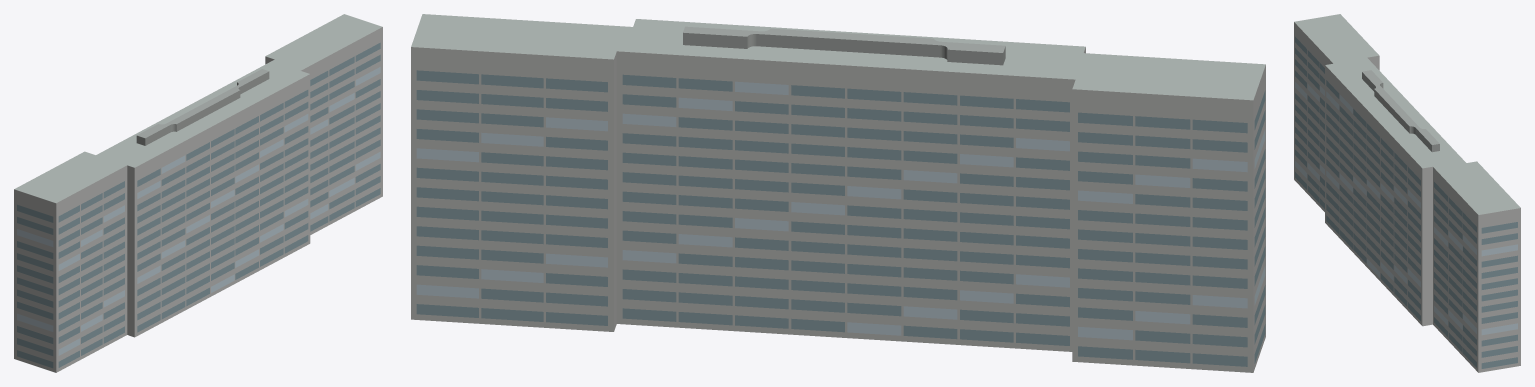
The model's file is fallback-daechi-eunma-2.glb.
3 renders of one model, left to right at view 1: azimuth 30°, elevation 25°; view 2: azimuth 150°, elevation 25°; view 3: azimuth 270°, elevation 25°, orthographic. The views are drawn at different scales.
Parts seen in each view (by area): view 1: fallback-daechi-eunma-2; view 2: fallback-daechi-eunma-2; view 3: fallback-daechi-eunma-2.
Part boxes in pixels (<box>): fallback-daechi-eunma-2: <box>14,14,382,372</box>; fallback-daechi-eunma-2: <box>411,14,1265,372</box>; fallback-daechi-eunma-2: <box>1294,14,1520,372</box>.
Size of the model in its own units: 117 by 44.62 by 55.65.
